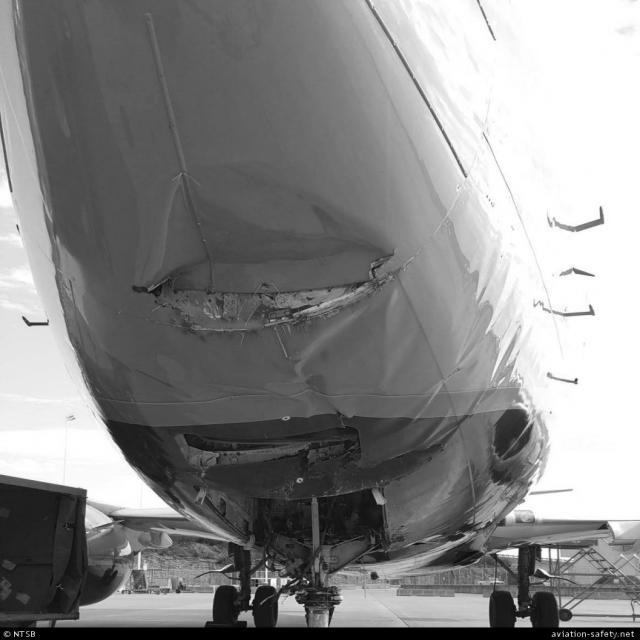dent: (144, 174, 397, 280), (298, 312, 368, 379)
